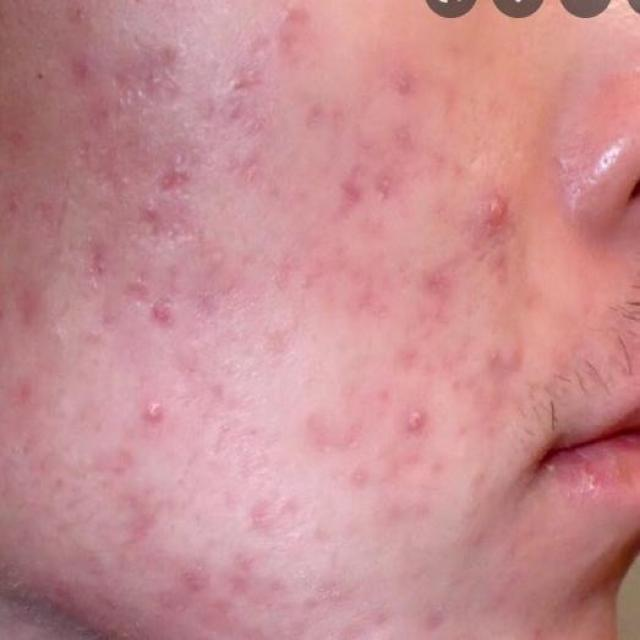Pimples: (323, 162, 401, 223), (146, 142, 222, 204), (465, 176, 531, 238), (126, 385, 178, 443), (120, 194, 171, 243), (138, 284, 192, 330), (413, 259, 468, 302), (68, 27, 98, 100), (398, 402, 437, 440)
